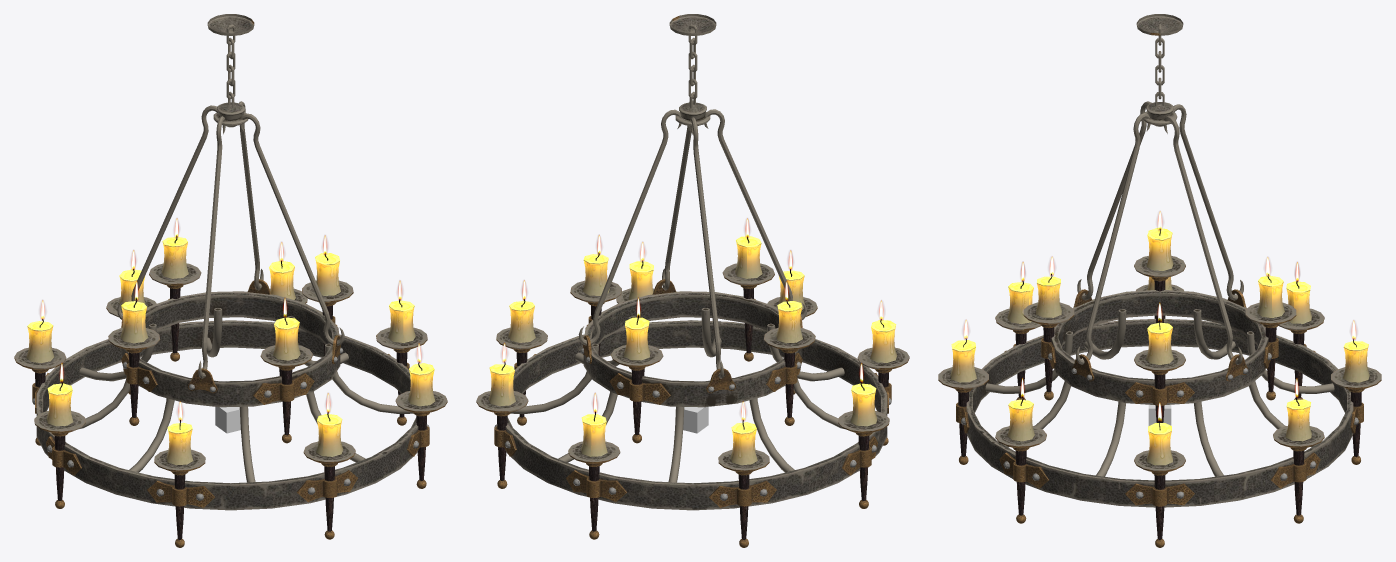
File: medieval_chandelier2.glb
The picture shows the model from 3 angles, left to right: view 1: azimuth 30°, elevation 25°; view 2: azimuth 150°, elevation 25°; view 3: azimuth 270°, elevation 25°; orthographic projection.
Parts seen in each view (by area): view 1: group42, Cube; view 2: group42, Cube; view 3: group42.
Part boxes in pixels (x1,y1,x2,y2): group42: (14,14,447,547); Cube: (215,407,240,433); group42: (476,14,909,547); Cube: (683,407,708,433); group42: (938,14,1381,547).
Size of the model in its own units: 38.71 by 42.47 by 38.71.
Materials: 3 (2 with a texture image).
